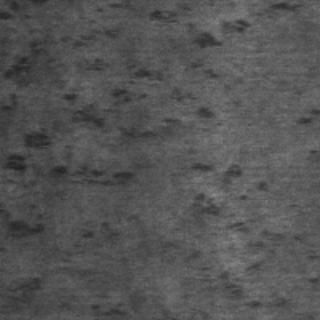rolled pit: (1, 46, 178, 192), (146, 0, 298, 121), (182, 150, 286, 314)
